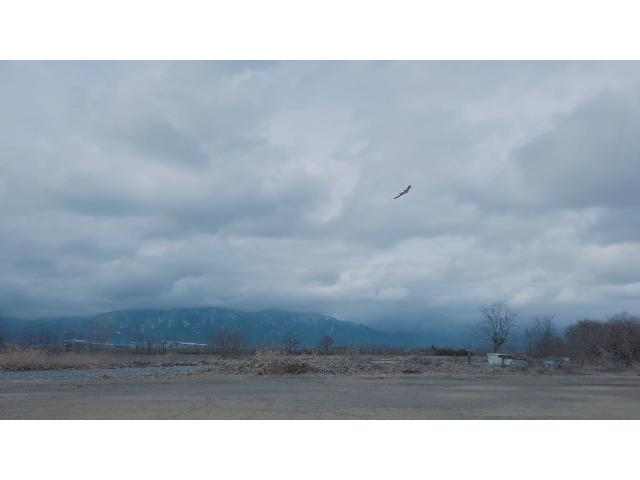Anti-Drone: (393, 183, 413, 201)
